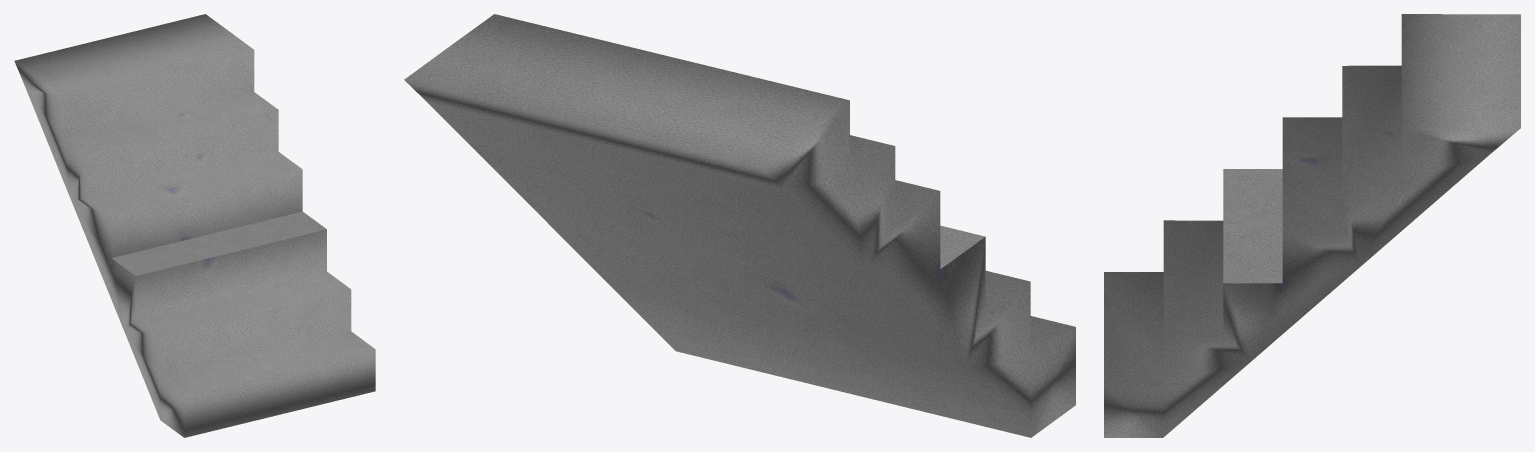
Rendered from 8f69889b-749d-47eb-8f03-a88ee32d4cce.glb.
3 views of the same model, side by side, from view 1: azimuth 30°, elevation 25°; view 2: azimuth 150°, elevation 25°; view 3: azimuth 270°, elevation 25° (orthographic). The views are drawn at different scales.
Parts seen in each view (by area): view 1: AshStairs.002; view 2: AshStairs.002; view 3: AshStairs.002.
Part boxes in pixels (left/top/right/bottom): AshStairs.002: left=14, top=14, right=375, bottom=437; AshStairs.002: left=404, top=14, right=1075, bottom=437; AshStairs.002: left=1104, top=14, right=1520, bottom=437.
Size of what is drawn, in the model's own units: 1.36 by 1.71 by 2.09.
Materials: 1 (1 with a texture image).
